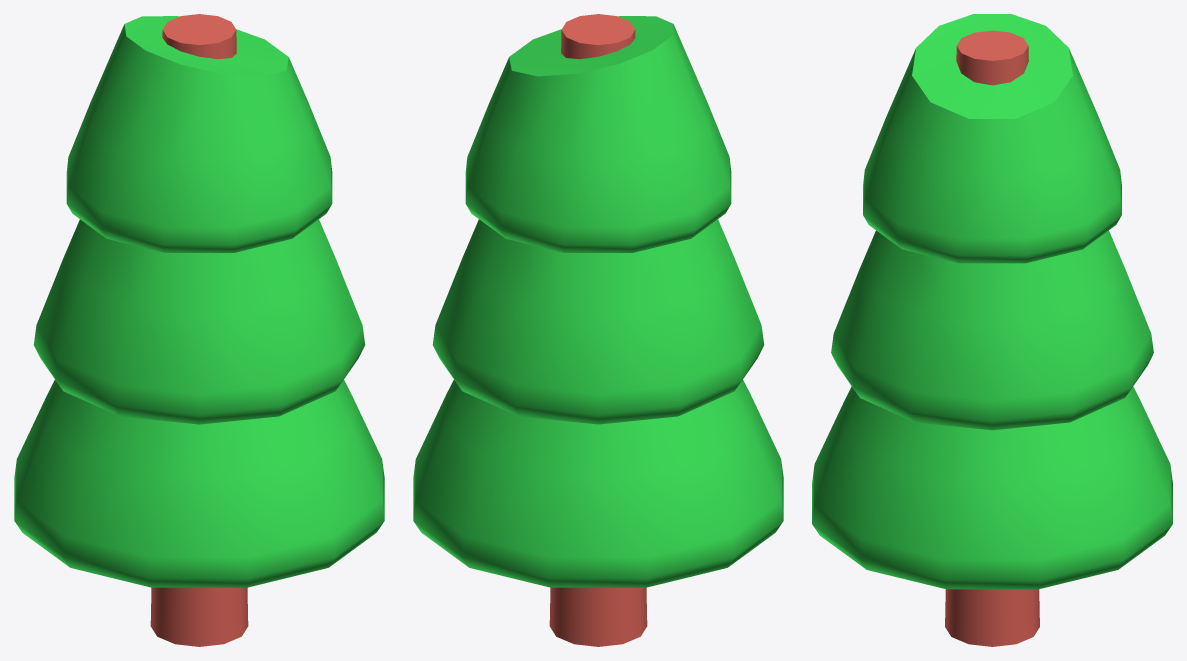
File: Tree_04_lvl.fbx
The picture shows the model from 3 angles, left to right: view 1: azimuth 30°, elevation 25°; view 2: azimuth 150°, elevation 25°; view 3: azimuth 270°, elevation 25°; orthographic projection. The views are drawn at different scales.
Visible parts, largest first — view 1: tree_4.007; view 2: tree_4.007; view 3: tree_4.007.
Boxes of the visible parts, x1=… form: tree_4.007: x1=14, y1=14, x2=384, y2=646; tree_4.007: x1=413, y1=14, x2=783, y2=646; tree_4.007: x1=812, y1=14, x2=1172, y2=646.
Bounding box in the file's own units: 116 × 207 × 116.
